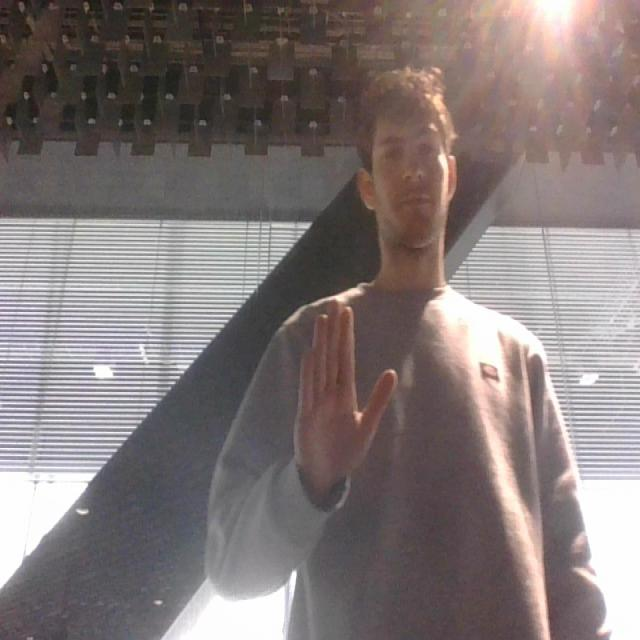backward: (289, 292, 404, 499)
